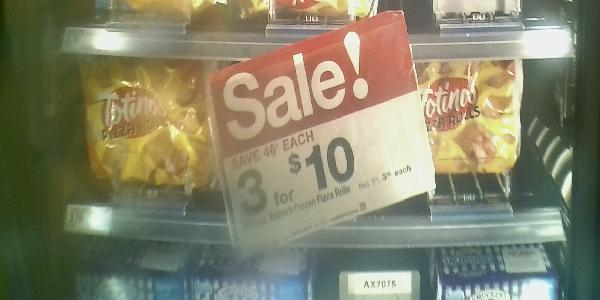icecream: (77, 54, 234, 199), (390, 57, 522, 170)
